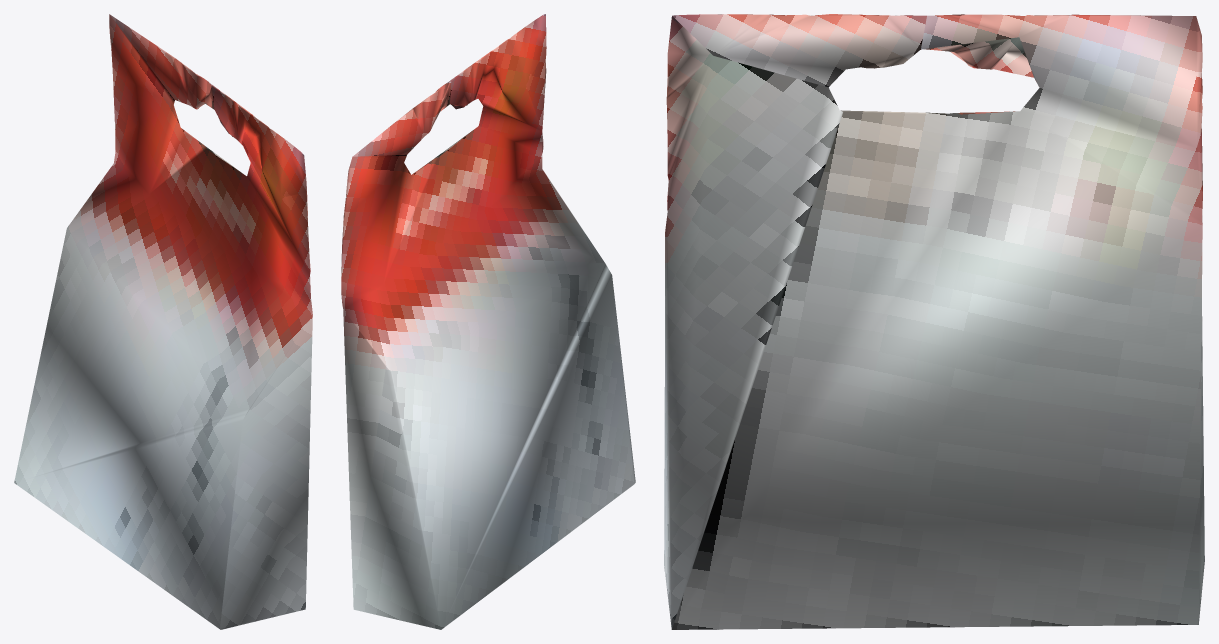
The model's file is Canon_Pixma_Ink_Cartridge_8-low.glb.
3 renders of one model, left to right at view 1: azimuth 30°, elevation 25°; view 2: azimuth 150°, elevation 25°; view 3: azimuth 270°, elevation 25°, orthographic. The views are drawn at different scales.
Visible parts, largest first — view 1: Canon_Pixma_Ink_Cartridge_8; view 2: Canon_Pixma_Ink_Cartridge_8; view 3: Canon_Pixma_Ink_Cartridge_8.
Part boxes in pixels (box(x1,y1,x2,y2)): Canon_Pixma_Ink_Cartridge_8: box(14, 14, 312, 629); Canon_Pixma_Ink_Cartridge_8: box(341, 14, 635, 629); Canon_Pixma_Ink_Cartridge_8: box(664, 14, 1204, 629).
Size of the model in its own units: 0.0265 by 0.1129 by 0.0899.
1 material, 1 textured.
